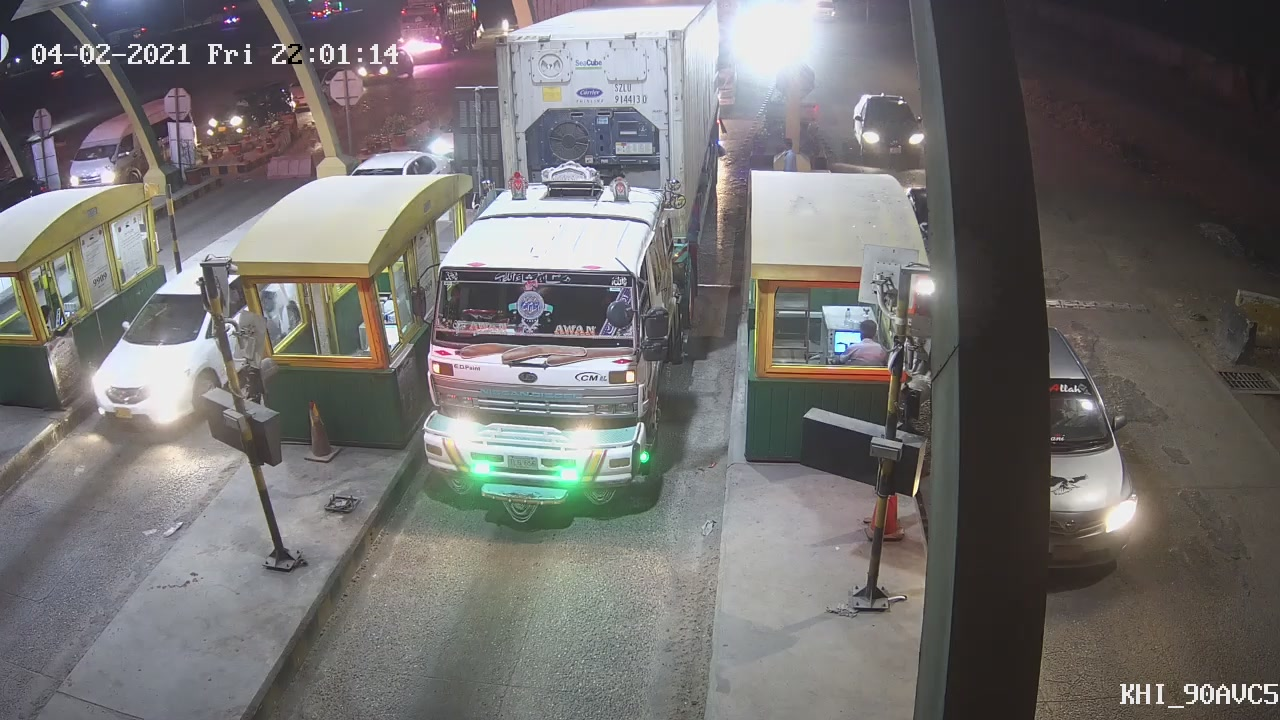F6: (411, 3, 729, 534)
